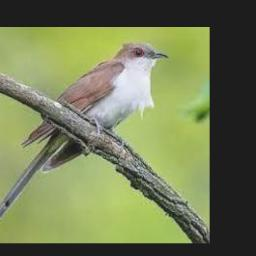Cuckoo: (0, 42, 168, 228)
